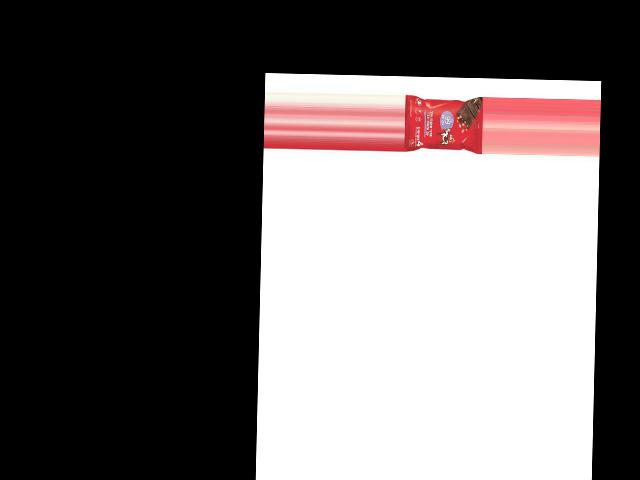chocolate: (403, 94, 483, 151)
